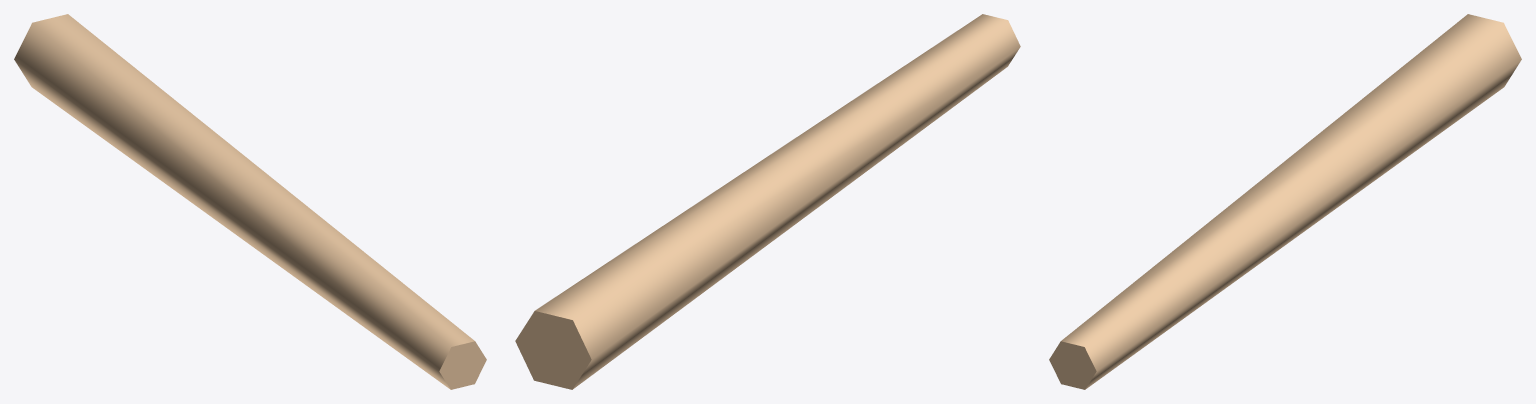
Rendered from baseball_kid_bat.glb.
3 views of the same model, side by side, from view 1: azimuth 30°, elevation 25°; view 2: azimuth 150°, elevation 25°; view 3: azimuth 330°, elevation 25° (orthographic). The views are drawn at different scales.
Visible parts, largest first — view 1: baseball_kid_bat; view 2: baseball_kid_bat; view 3: baseball_kid_bat.
Boxes of the visible parts, box(x1,y1,x2,y2) form: baseball_kid_bat: box(14, 14, 486, 389); baseball_kid_bat: box(515, 14, 1020, 389); baseball_kid_bat: box(1049, 14, 1521, 389).
Bounding box in the file's own units: 0.06 × 0.0533 × 0.6007.
